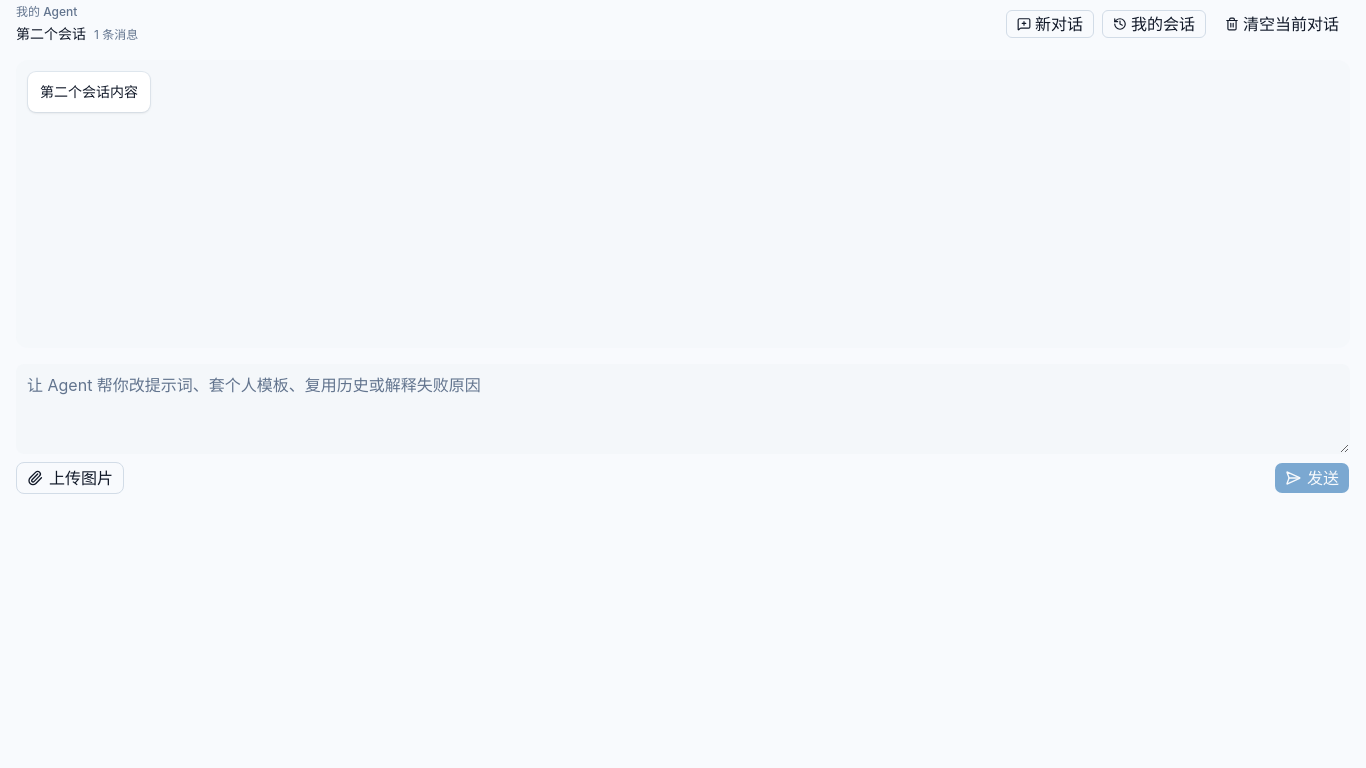
Scenario: AgentChatPanel › switches between agent conversations without mixing messages
Expected: the text "第二个会话内容" is shown, [40,80,138,104]
Click the button "我的会话": (1154, 24) [1102,10,1206,38]
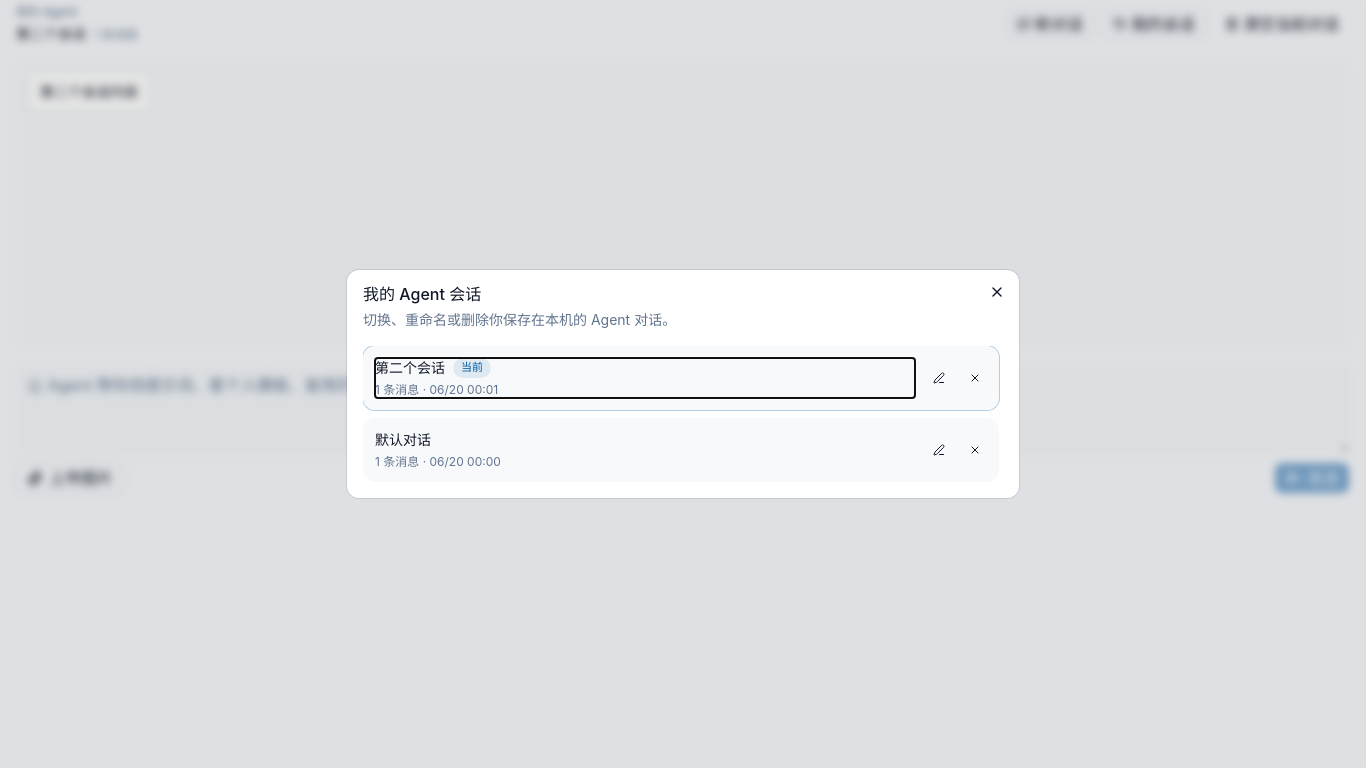
Click the text "默认对话": (403, 440) [375,430,431,450]
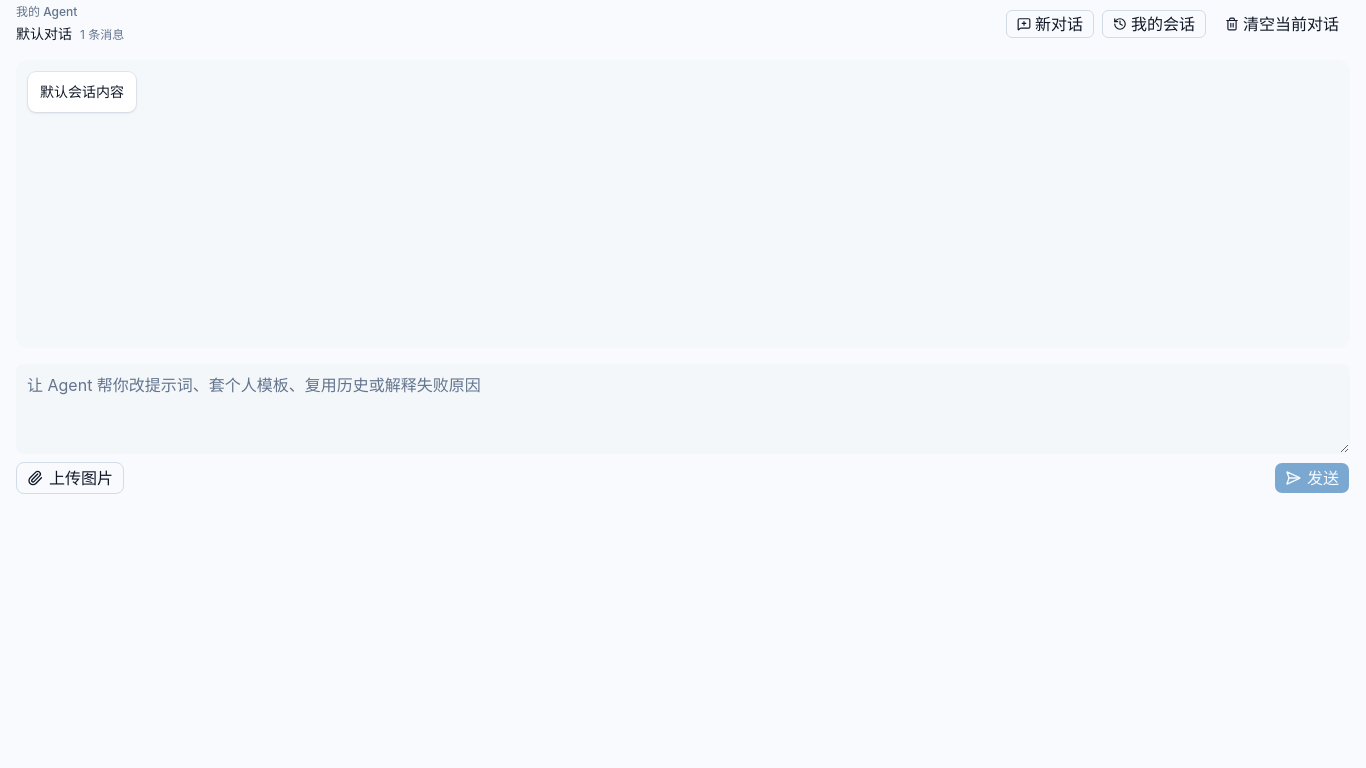
Now the text "默认会话内容" is shown, box [40,80,124,104]
Now the text "第二个会话内容" is gone
Now the element with test id "agent-conversation-history-list" is gone
